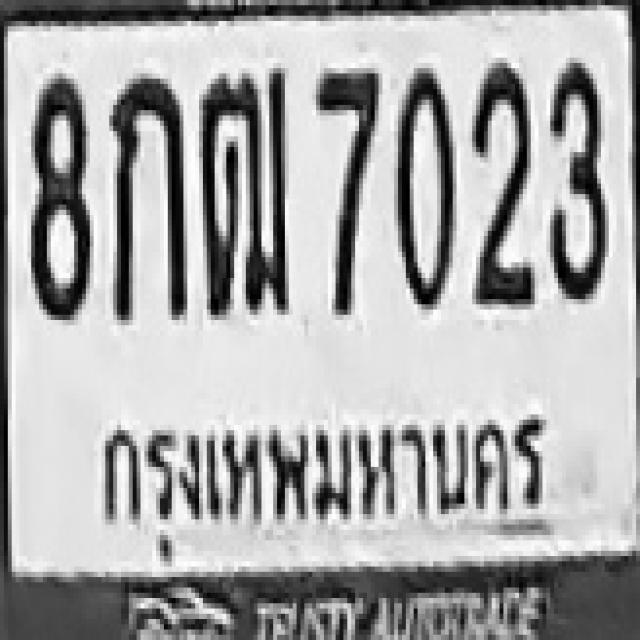0: (394, 63, 453, 309)
10GorGai: (110, 73, 184, 320)
2: (470, 58, 533, 304)
27ThorPhuThao: (197, 68, 291, 315)
3: (546, 58, 605, 299)
7: (312, 68, 379, 315)
8: (27, 73, 90, 315)
Bangkok: (88, 371, 558, 565)
